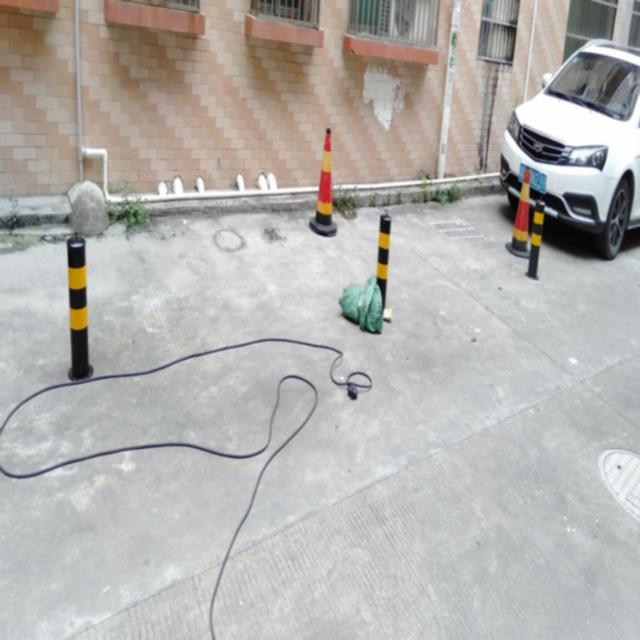car: (499, 35, 639, 257)
reflective_cone: (309, 125, 338, 238), (504, 165, 530, 258)
warning_column: (65, 228, 94, 380), (525, 196, 545, 280), (376, 207, 391, 316)
